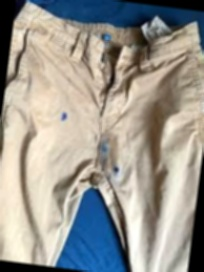ink: (98, 136, 109, 153), (62, 112, 68, 121), (113, 167, 119, 171)
